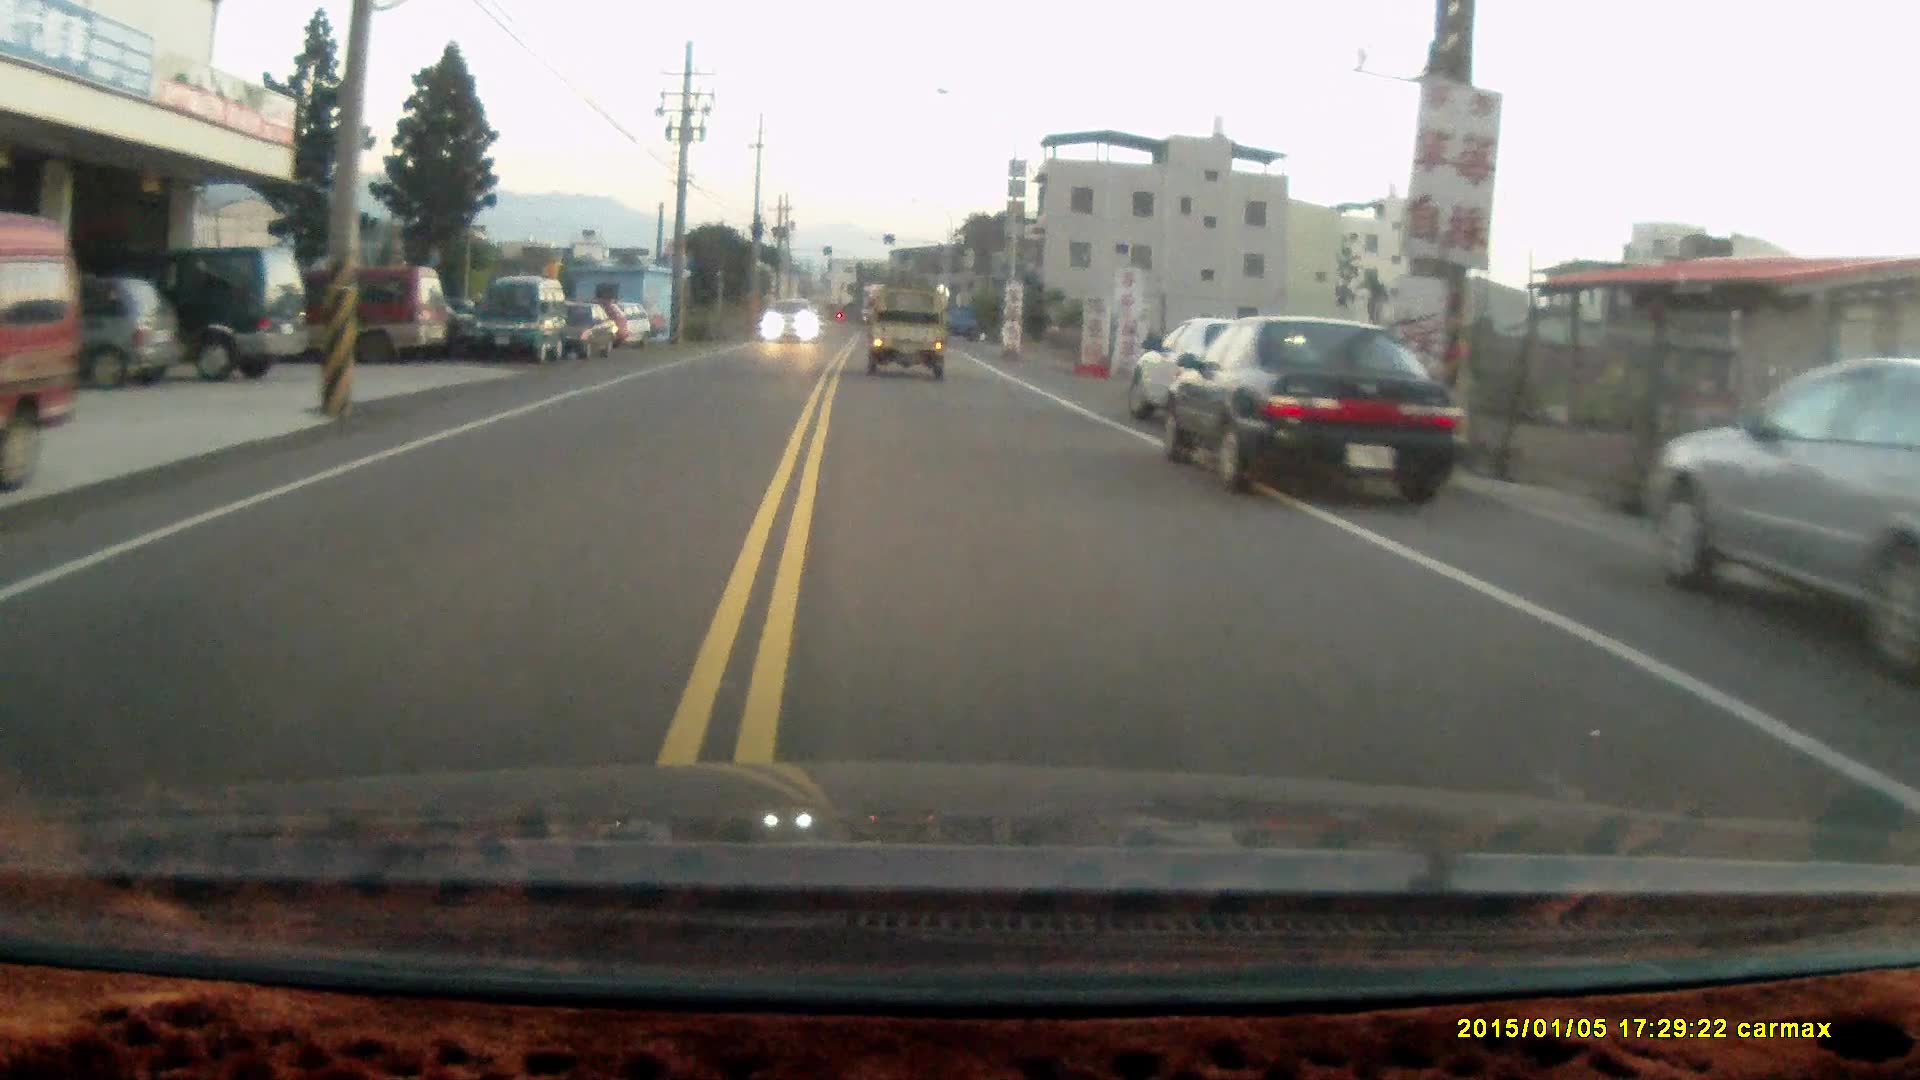vehicle: (1646, 357, 1920, 650), (1156, 314, 1464, 509), (61, 243, 313, 378), (1, 220, 88, 483), (1, 276, 190, 390), (1135, 318, 1309, 436), (241, 265, 450, 363), (459, 280, 564, 369), (864, 289, 949, 378), (549, 302, 621, 361), (760, 301, 820, 345)
